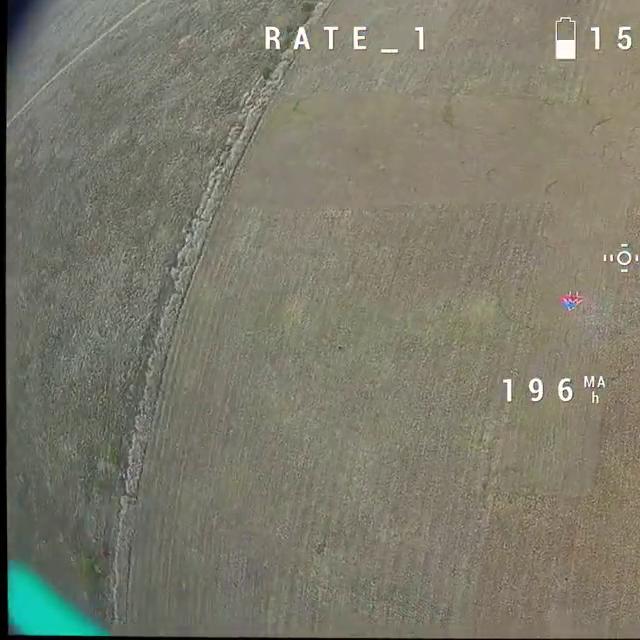drone: (560, 285, 583, 313)
